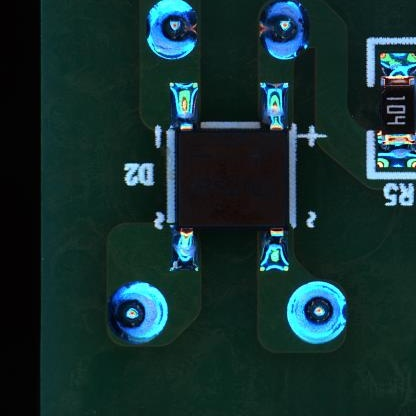spot: (287, 281, 348, 343), (108, 281, 168, 344), (145, 1, 200, 60), (259, 1, 308, 61)
